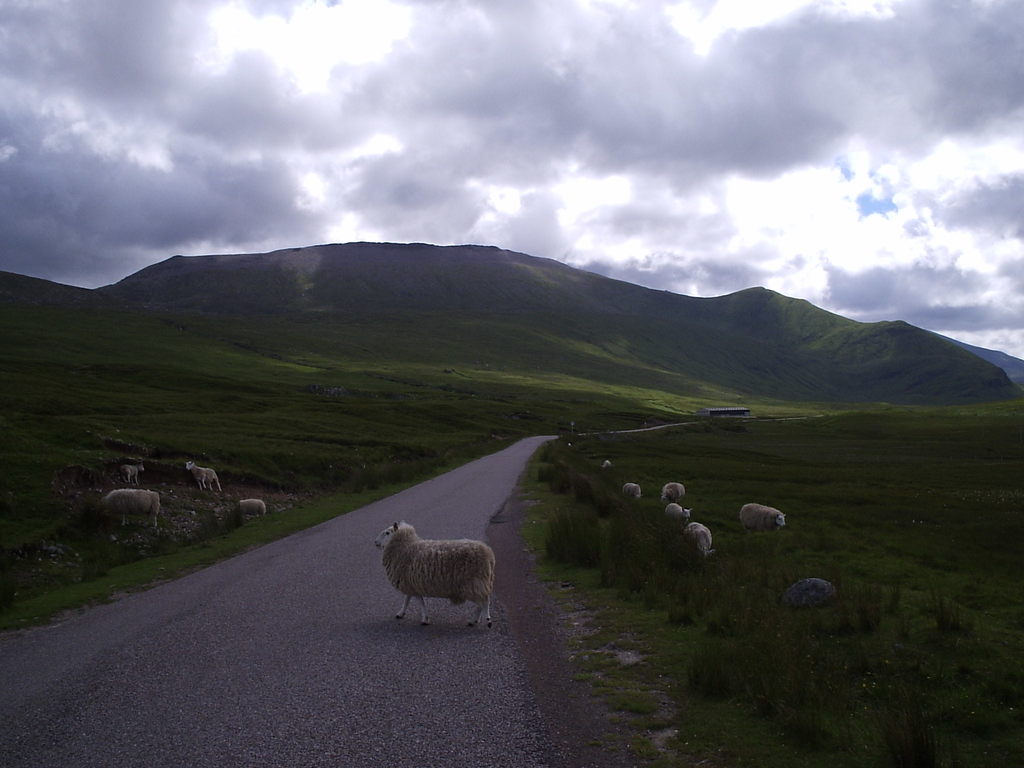sheep: (373, 520, 494, 631), (97, 490, 161, 526), (184, 462, 222, 487), (231, 496, 266, 513), (119, 465, 143, 485)
